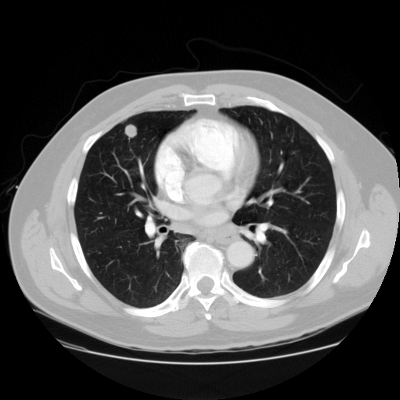nodule: (124, 124, 136, 136)
